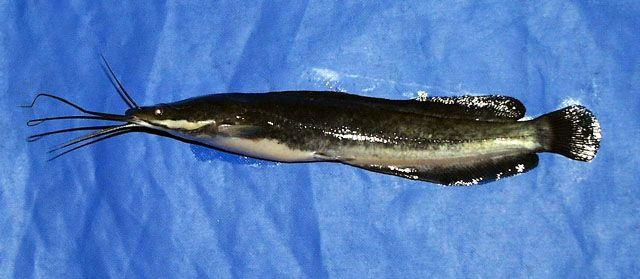Catfish: (14, 51, 606, 189)
